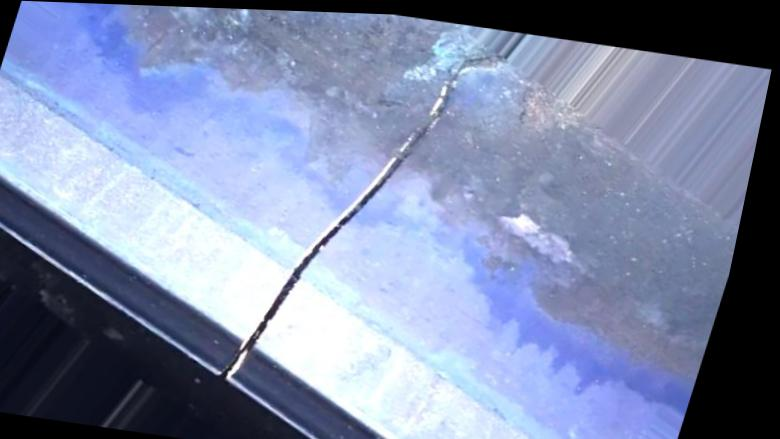person: (134, 6, 597, 411)
